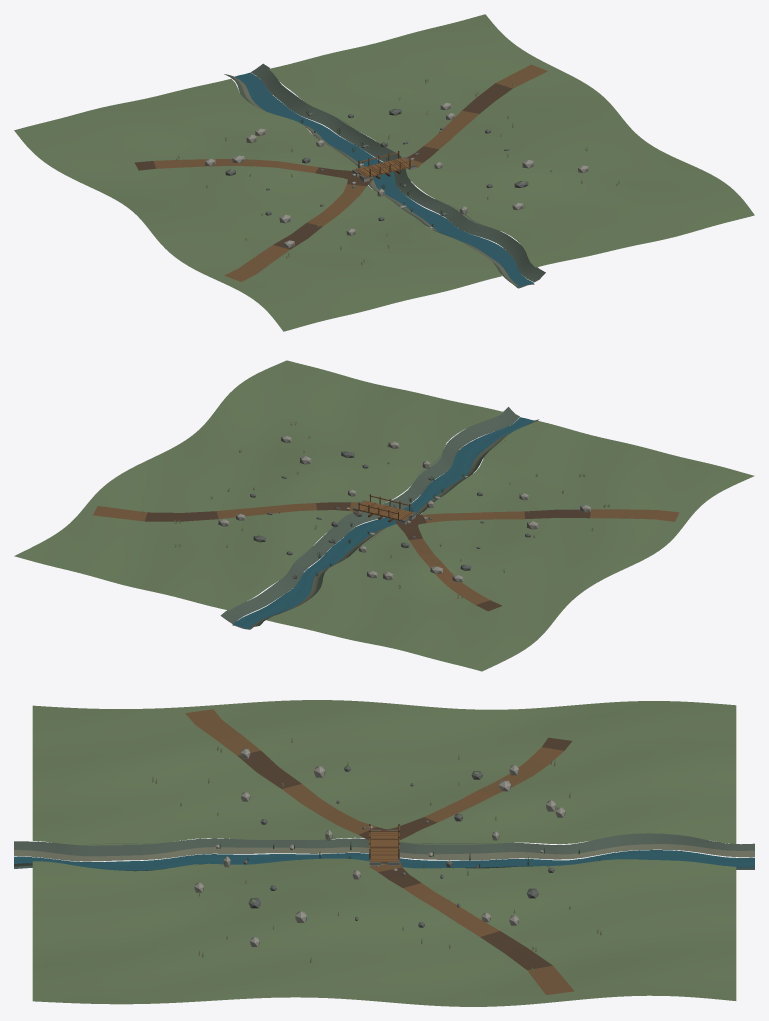
Rendered from barrosan_terrain_infrastructure_v0377.glb.
The picture shows the model from 3 angles, top to bottom: view 1: azimuth 30°, elevation 25°; view 2: azimuth 150°, elevation 25°; view 3: azimuth 270°, elevation 25°; orthographic projection. The views are drawn at different scales.
Visible parts, largest first — view 1: Continuous_Highland_Land_East, Continuous_Highland_Land_West, Irregular_Wet_Bank_Slope_East, Subdued_Water_Surface, Embedded_Road_West_Approach, Embedded_Road_East_Approach, Embedded_Road_Upper_Threshold, Irregular_Wet_Bank_Slope_West; view 2: Continuous_Highland_Land_East, Continuous_Highland_Land_West, Irregular_Wet_Bank_Slope_East, Subdued_Water_Surface, Embedded_Road_East_Approach, Embedded_Road_West_Approach, Embedded_Road_Upper_Threshold, Irregular_Wet_Bank_Slope_West; view 3: Continuous_Highland_Land_East, Continuous_Highland_Land_West, Irregular_Wet_Bank_Slope_West, Subdued_Water_Surface, Embedded_Road_East_Approach, Embedded_Road_West_Approach, Embedded_Road_Upper_Threshold.
Boxes of the visible parts, x1,y1,x2,y2 form: Continuous_Highland_Land_East: (269, 14, 754, 267); Continuous_Highland_Land_West: (14, 79, 501, 331); Irregular_Wet_Bank_Slope_East: (251, 63, 545, 282); Subdued_Water_Surface: (235, 72, 533, 286); Embedded_Road_West_Approach: (224, 178, 373, 281); Embedded_Road_East_Approach: (406, 64, 547, 167); Embedded_Road_Upper_Threshold: (134, 159, 359, 181); Irregular_Wet_Bank_Slope_West: (224, 74, 518, 285); Continuous_Highland_Land_East: (14, 360, 504, 610); Continuous_Highland_Land_West: (267, 420, 754, 671); Irregular_Wet_Bank_Slope_East: (220, 407, 519, 623); Subdued_Water_Surface: (233, 417, 534, 628); Embedded_Road_East_Approach: (93, 502, 360, 521); Embedded_Road_West_Approach: (409, 509, 679, 524); Embedded_Road_Upper_Threshold: (395, 519, 502, 611); Irregular_Wet_Bank_Slope_West: (250, 419, 539, 627); Continuous_Highland_Land_East: (32, 858, 736, 1006); Continuous_Highland_Land_West: (32, 700, 736, 845); Irregular_Wet_Bank_Slope_West: (14, 833, 754, 861); Subdued_Water_Surface: (14, 850, 754, 870); Embedded_Road_East_Approach: (369, 861, 574, 995); Embedded_Road_West_Approach: (185, 709, 385, 840); Embedded_Road_Upper_Threshold: (381, 737, 571, 839).
Size of the model in its own units: 78.4 by 3.28 by 80.
